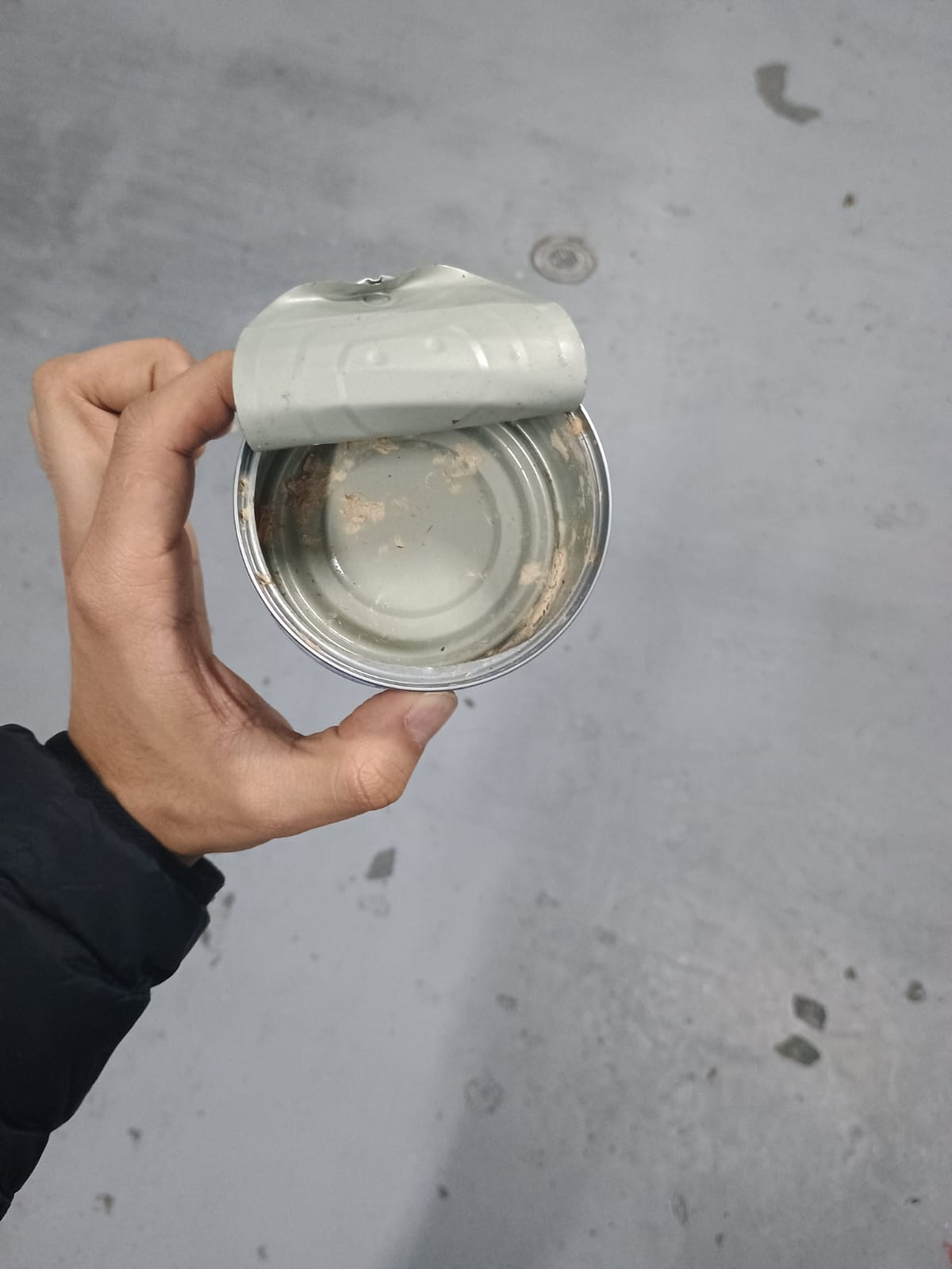Metal: (232, 265, 614, 697)
